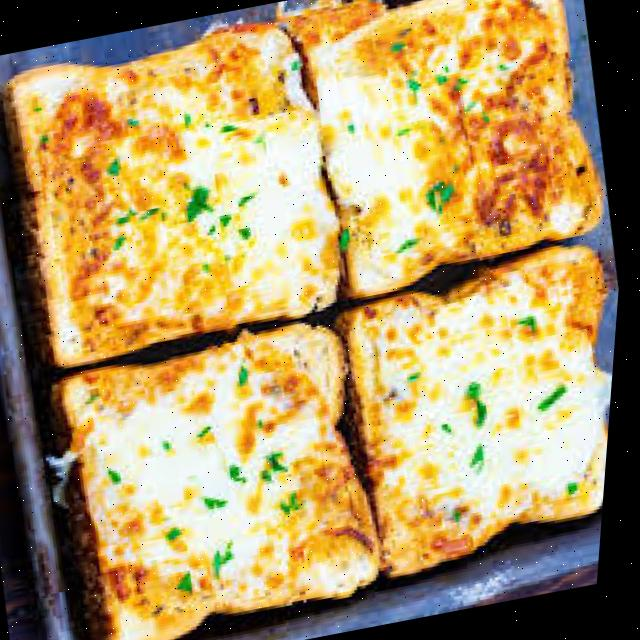Bread: (7, 26, 342, 366), (62, 324, 385, 640), (344, 249, 618, 576), (306, 0, 603, 297)
